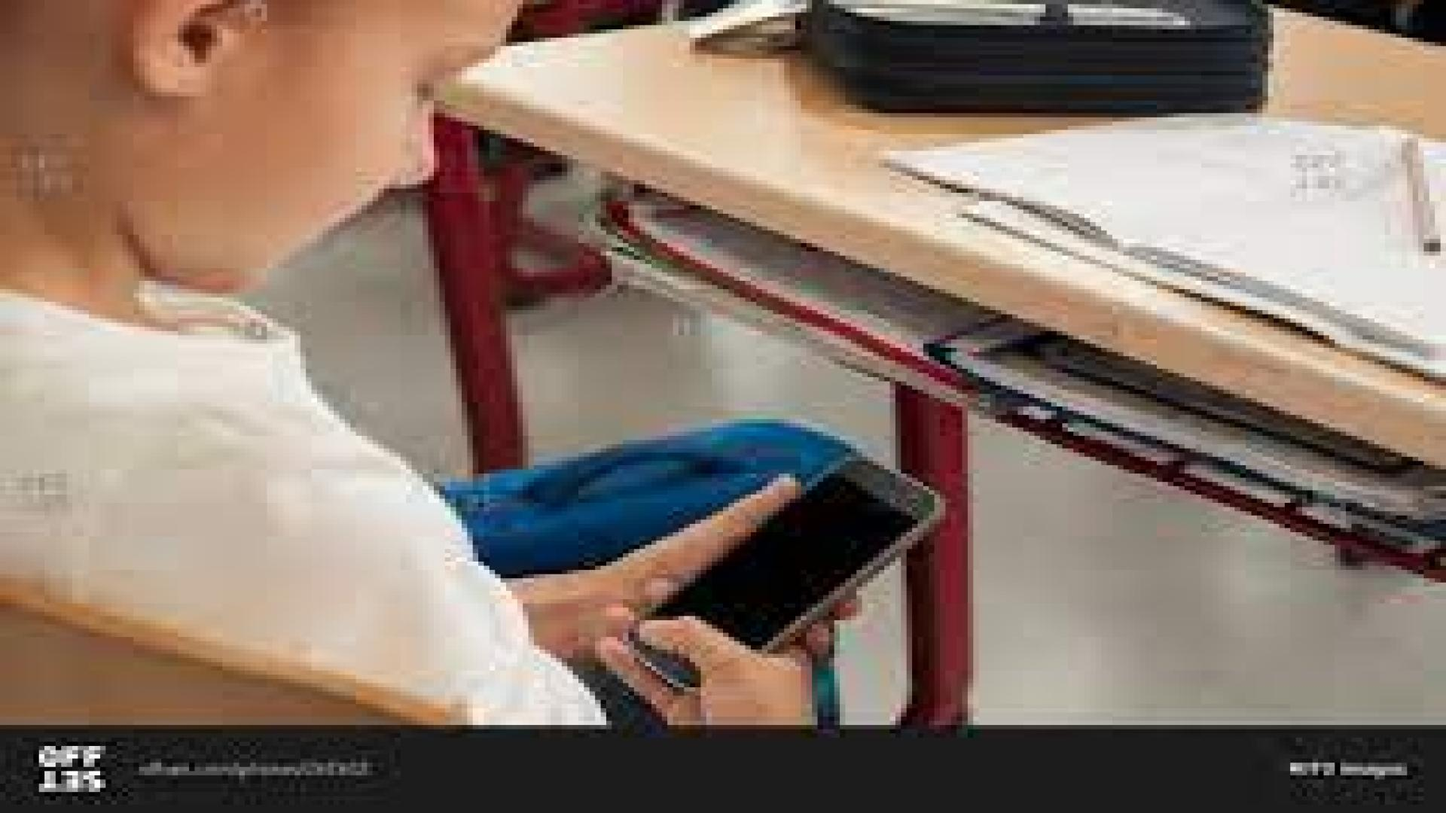phone: (614, 448, 963, 700)
